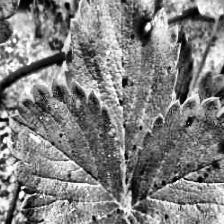Leaf Spot: (64, 0, 182, 183), (6, 79, 132, 224), (125, 93, 224, 224), (0, 0, 25, 128)
